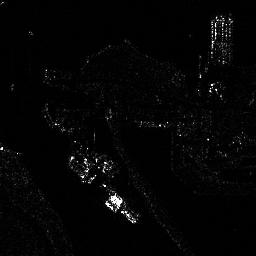ship: (108, 193, 138, 222), (68, 157, 97, 182)
